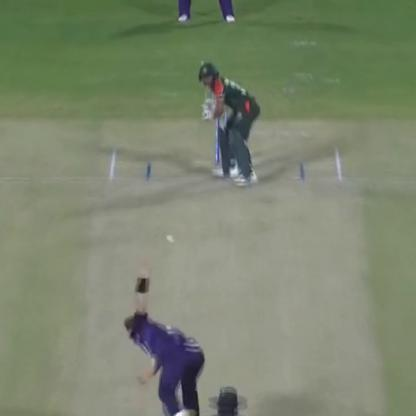ball: (163, 231, 176, 251)
bat: (197, 48, 216, 121)
pitch: (76, 136, 386, 416)
